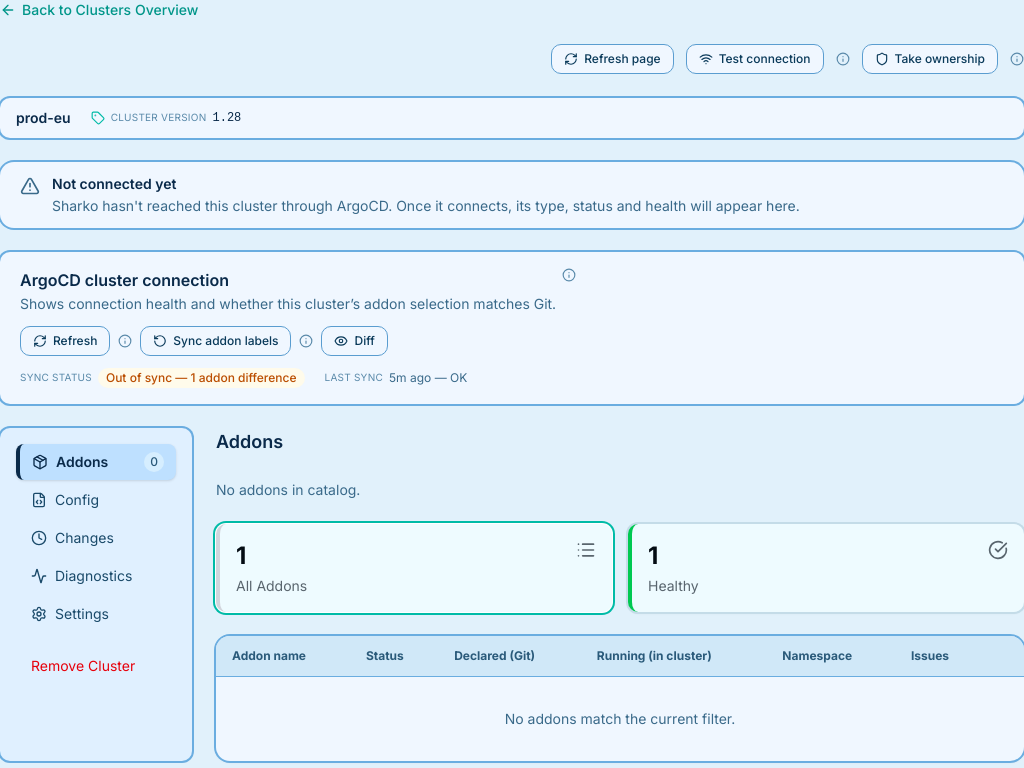
Scenario: ClusterDetail — Re-sync now (v4-8-5) › the drift hint is the SHARED sentence, pinned by exact text, and the old one is gone
Expected: the button "Sync addon labels" is enabled, 140,326 -> 292,356
Click the button named "What does Sync addon labels do?".
click(306, 341)  # box 300,334 -> 314,348
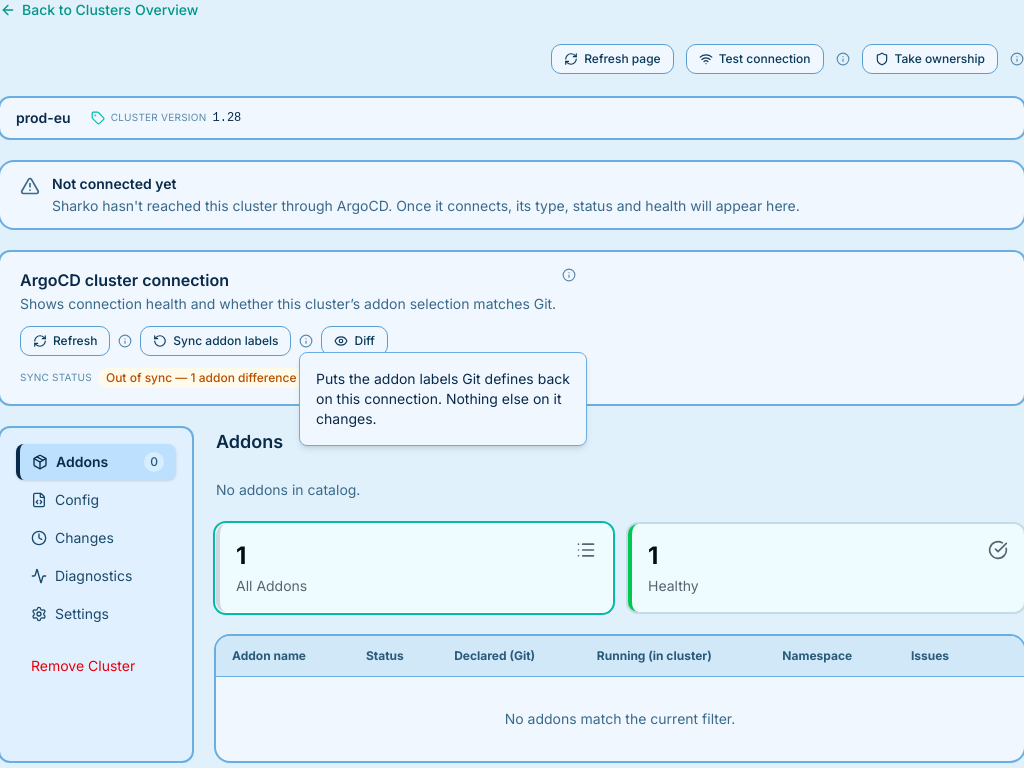
Result: the text "Puts the addon labels Git defines back on this connection. Nothing else on it changes." is shown at 316,370 -> 570,427
